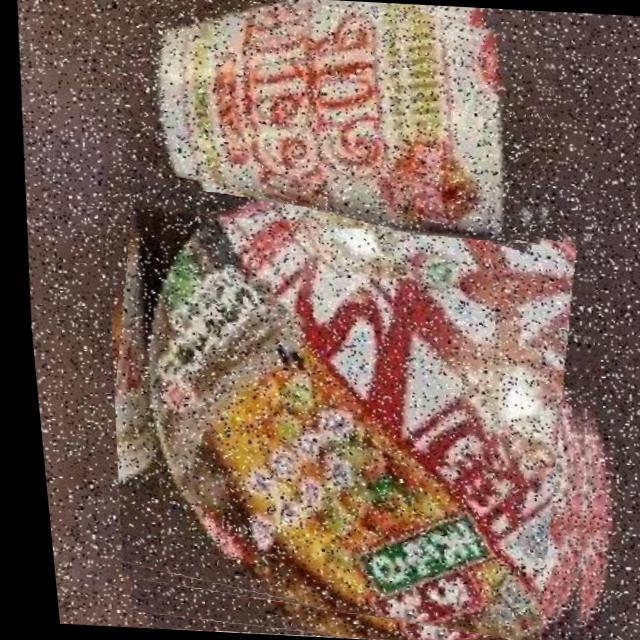Miscellaneous: (76, 165, 620, 640), (106, 0, 568, 246)
